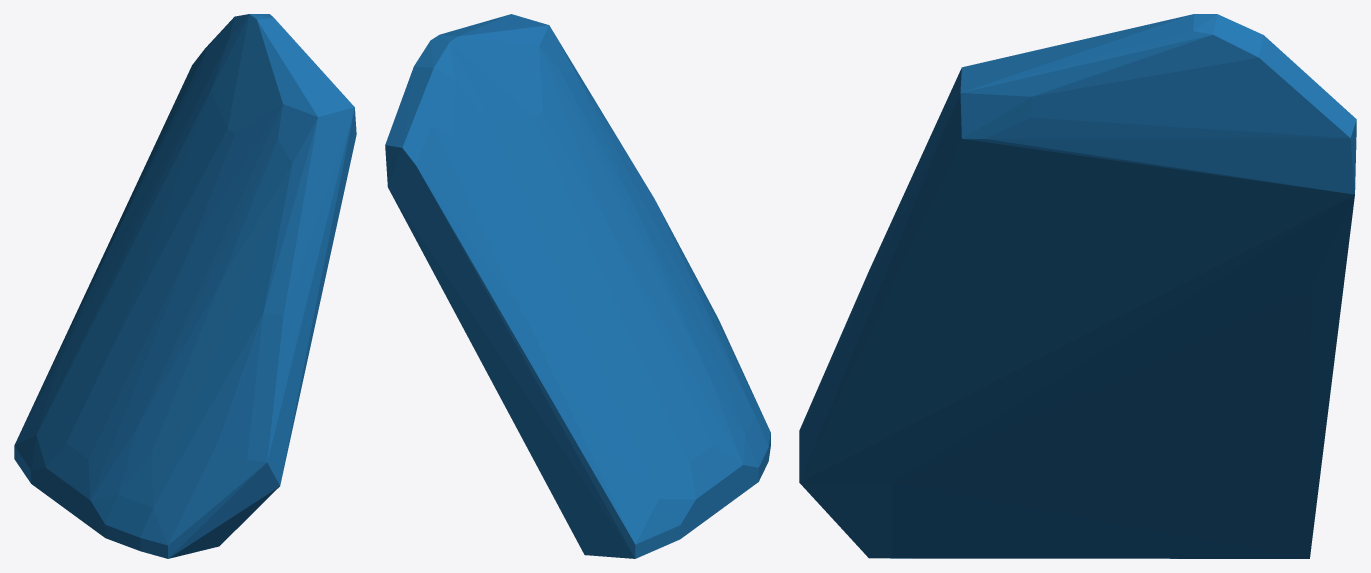
Rendered from mouth_cup000.obj.
3 renders of one model, left to right at view 1: azimuth 30°, elevation 25°; view 2: azimuth 150°, elevation 25°; view 3: azimuth 270°, elevation 25°, orthographic. The views are drawn at different scales.
Visible parts, largest first — view 1: mouth_cup000_mouth_cup000.001; view 2: mouth_cup000_mouth_cup000.001; view 3: mouth_cup000_mouth_cup000.001.
Boxes of the visible parts, x1=… form: mouth_cup000_mouth_cup000.001: x1=14, y1=14, x2=356, y2=558; mouth_cup000_mouth_cup000.001: x1=385, y1=14, x2=770, y2=558; mouth_cup000_mouth_cup000.001: x1=799, y1=14, x2=1356, y2=558.
Bounding box in the file's own units: 0.1794 × 0.2984 × 0.2265.
